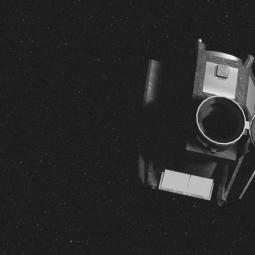cheops: (108, 37, 255, 205)
